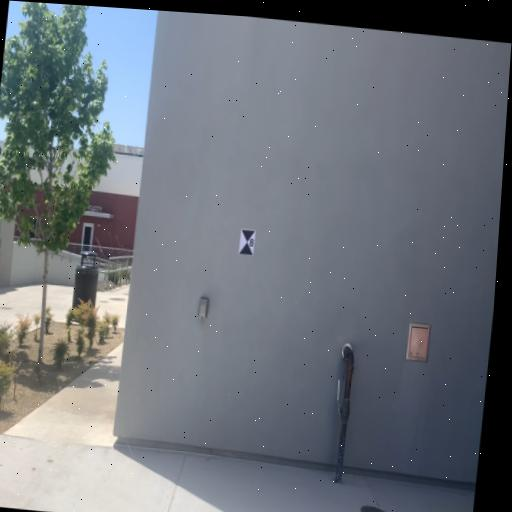target8: (238, 228, 256, 256)
